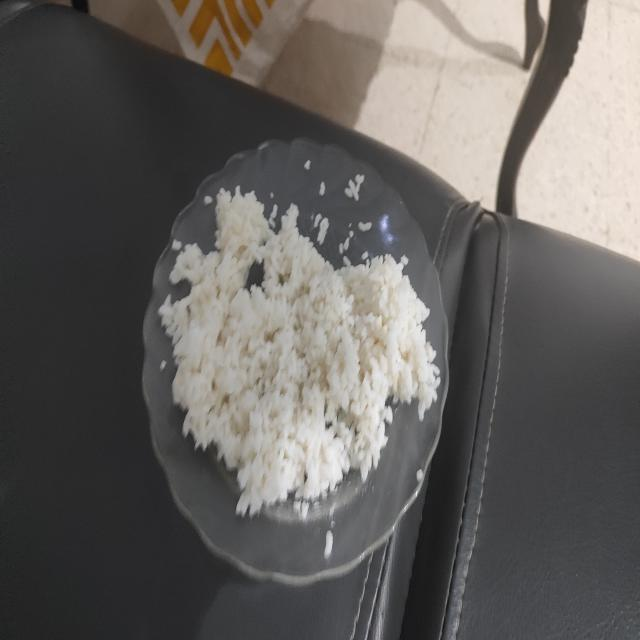nasi_putih: (159, 186, 440, 515)
